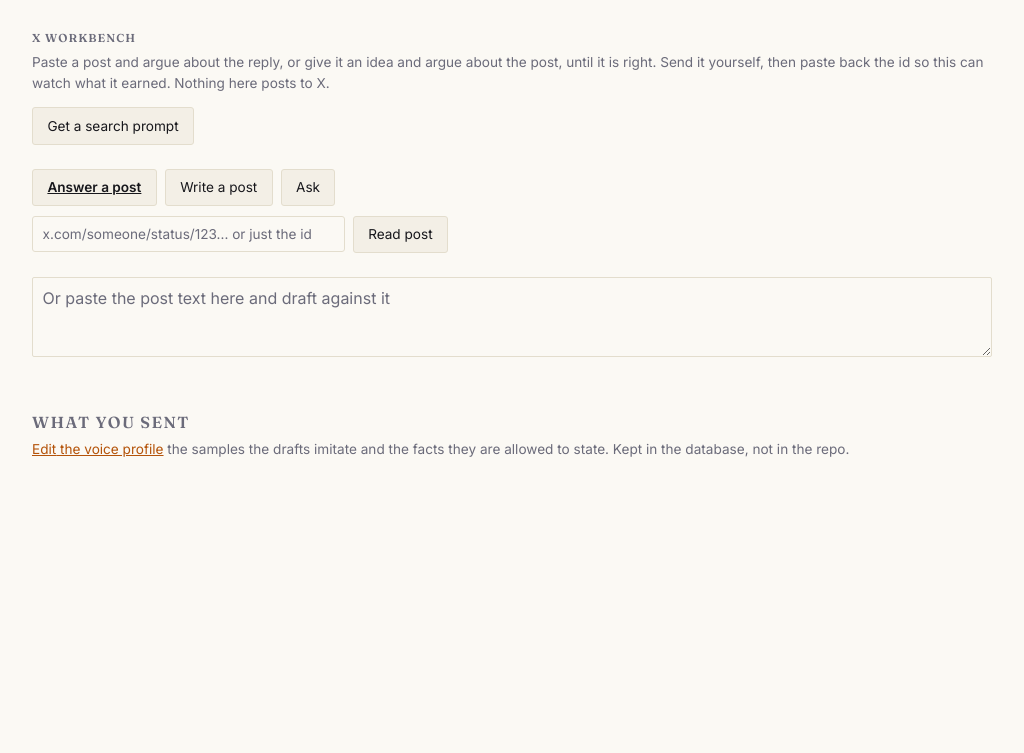
the X workbench › a broken X read still lets him draft from pasted text
Type "999" into the field with placeholder "x.com/someone/status/123... or just the id" at (188,234), box [32,216,345,252]
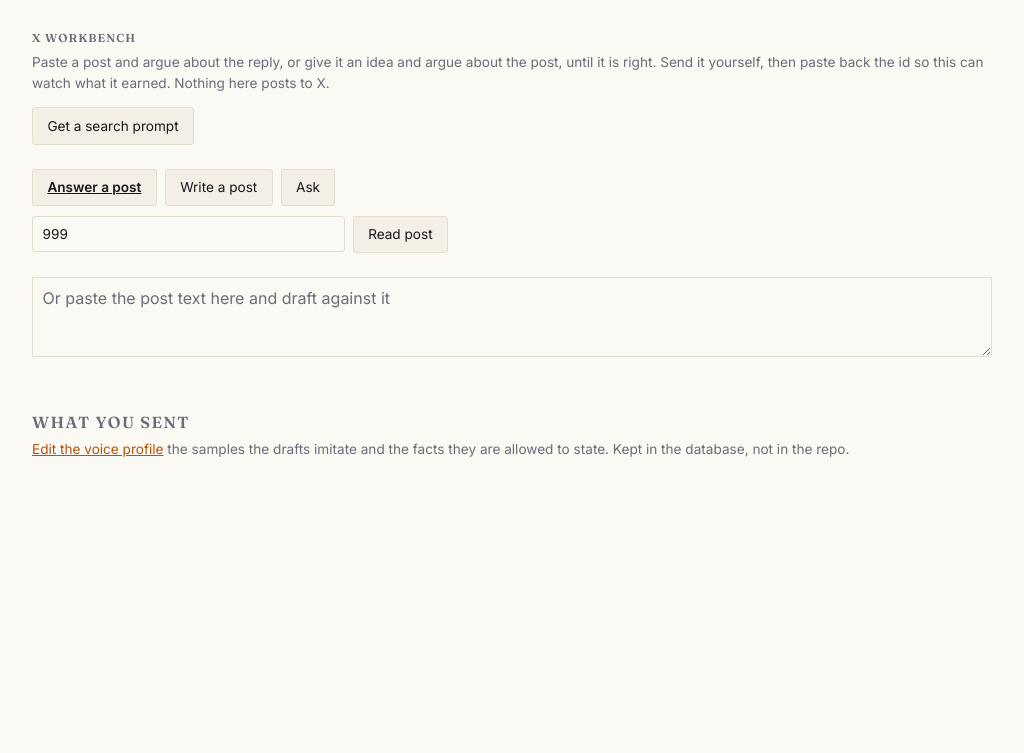
Click the button "Read post" at (400,235), box [353,216,448,253]
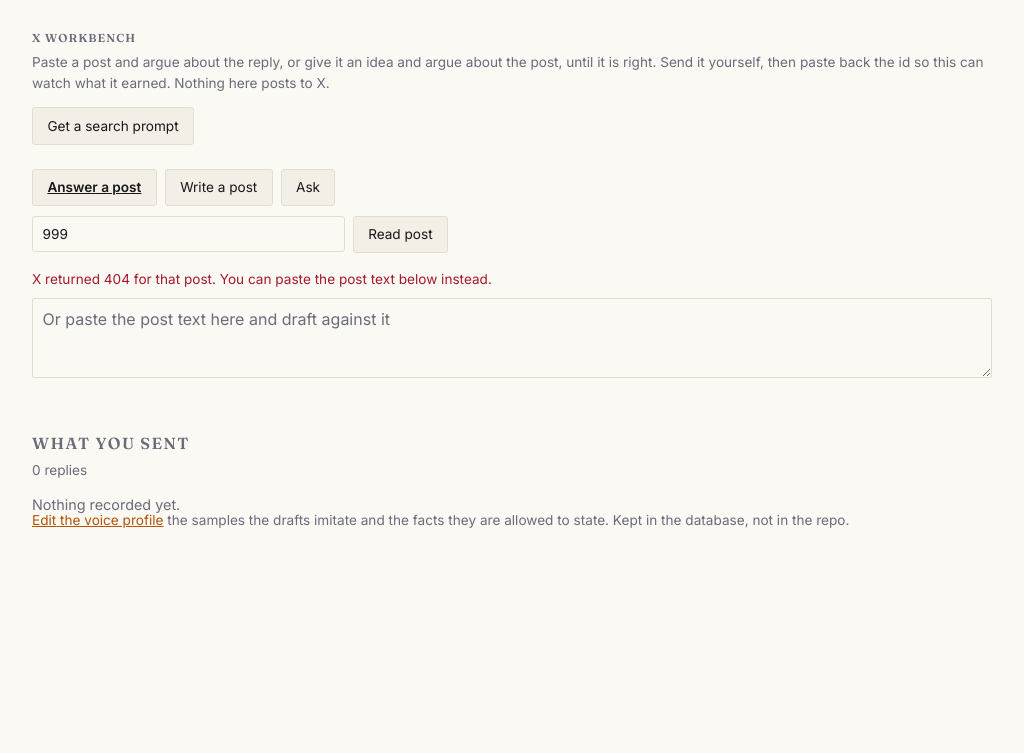
Expected: the text "X returned 404" is shown, [32,271,492,287]
Type "Forecasting inside companies never works." into the text box with placeholder "Or paste the post text here and draft against it" at (512,338), box [32,298,992,378]
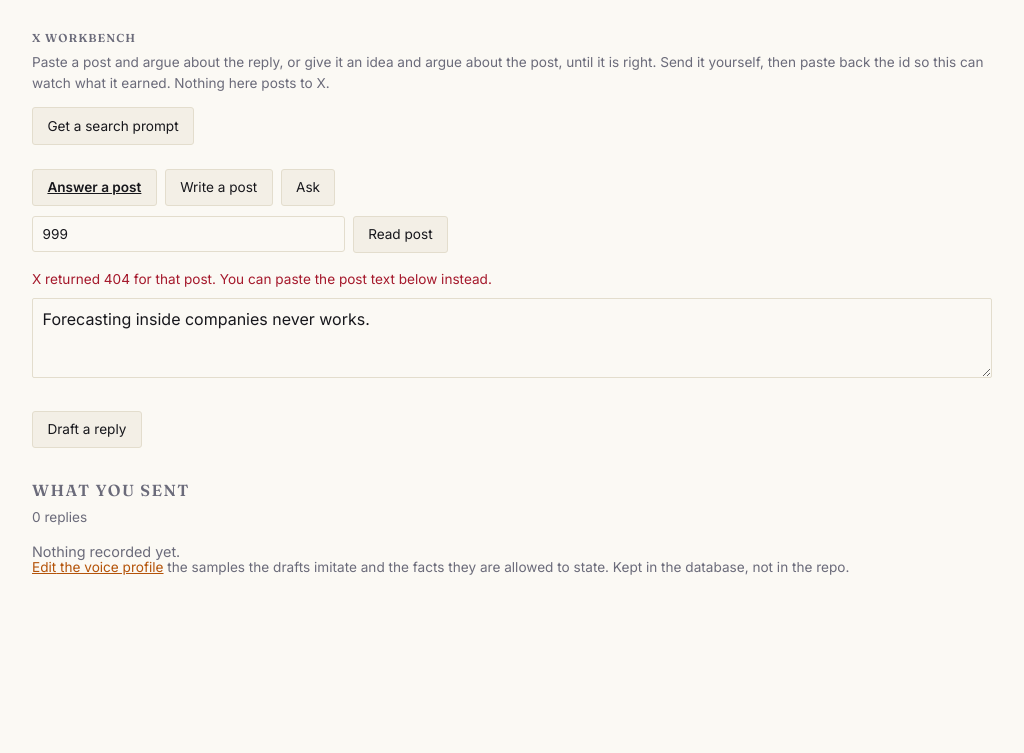
Click the button "Draft a reply" at (87,430), box [32,411,142,448]
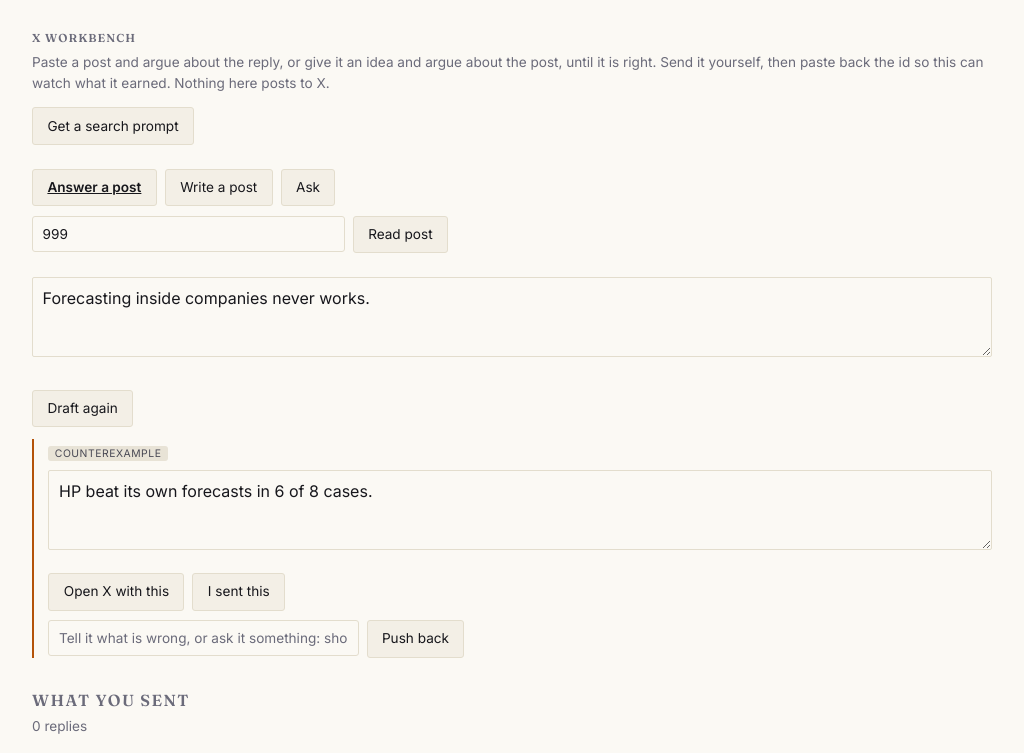
Expected: the text box showing "HP beat its own forecasts" is shown, [48,470,992,550]
